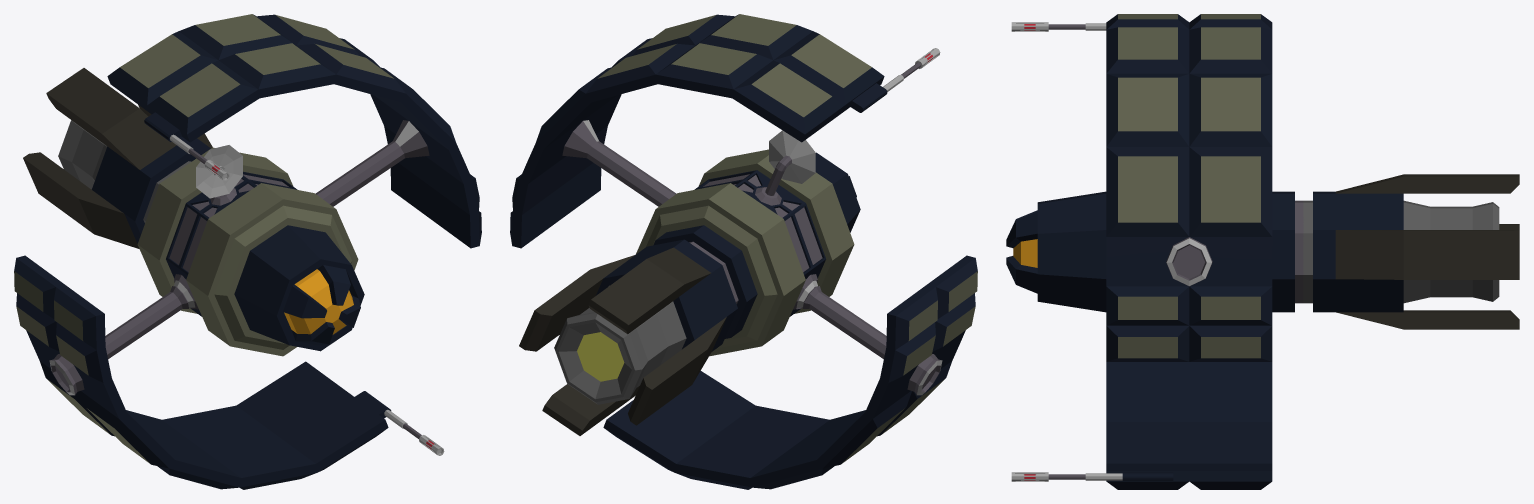
The picture shows the model from 3 angles, left to right: view 1: azimuth 30°, elevation 25°; view 2: azimuth 150°, elevation 25°; view 3: azimuth 270°, elevation 25°; orthographic projection. The views are drawn at different scales.
Parts seen in each view (by area): view 1: spaceship_2.001, spaceship_2; view 2: spaceship_2.001, spaceship_2; view 3: spaceship_2.001, spaceship_2.
Part boxes in pixels (box(x1,y1,x2,y2)): spaceship_2.001: box(14, 14, 481, 489); spaceship_2: box(23, 68, 212, 248); spaceship_2.001: box(510, 14, 977, 489); spaceship_2: box(519, 239, 737, 435); spaceship_2.001: box(1006, 14, 1303, 489); spaceship_2: box(1303, 174, 1519, 329).
Bounding box in the file's own units: 0.6785 × 0.6709 × 0.7254.
